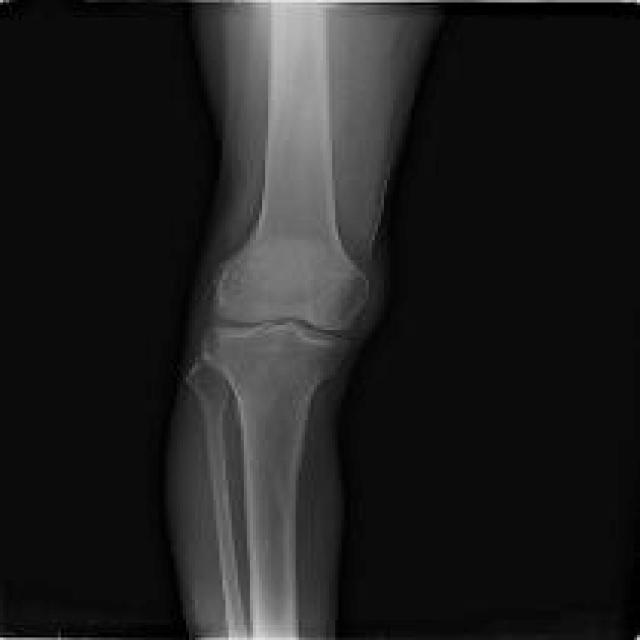normal: (221, 3, 366, 330), (206, 327, 344, 640), (187, 362, 249, 639)
